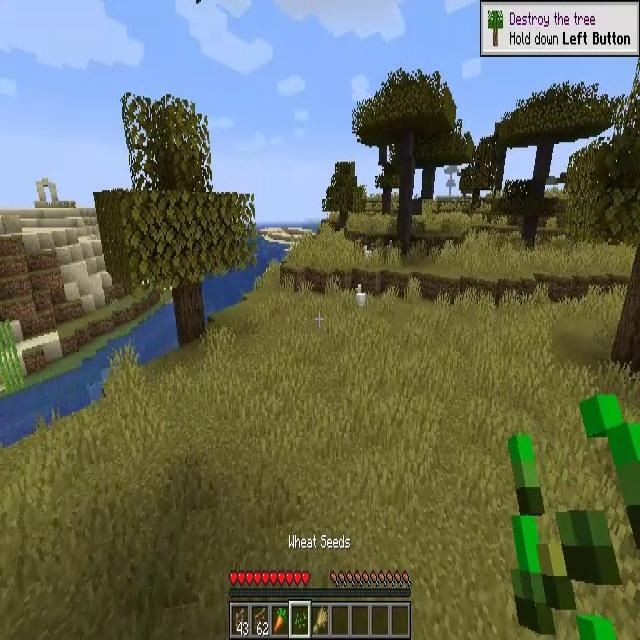duck: (356, 285, 368, 311)
